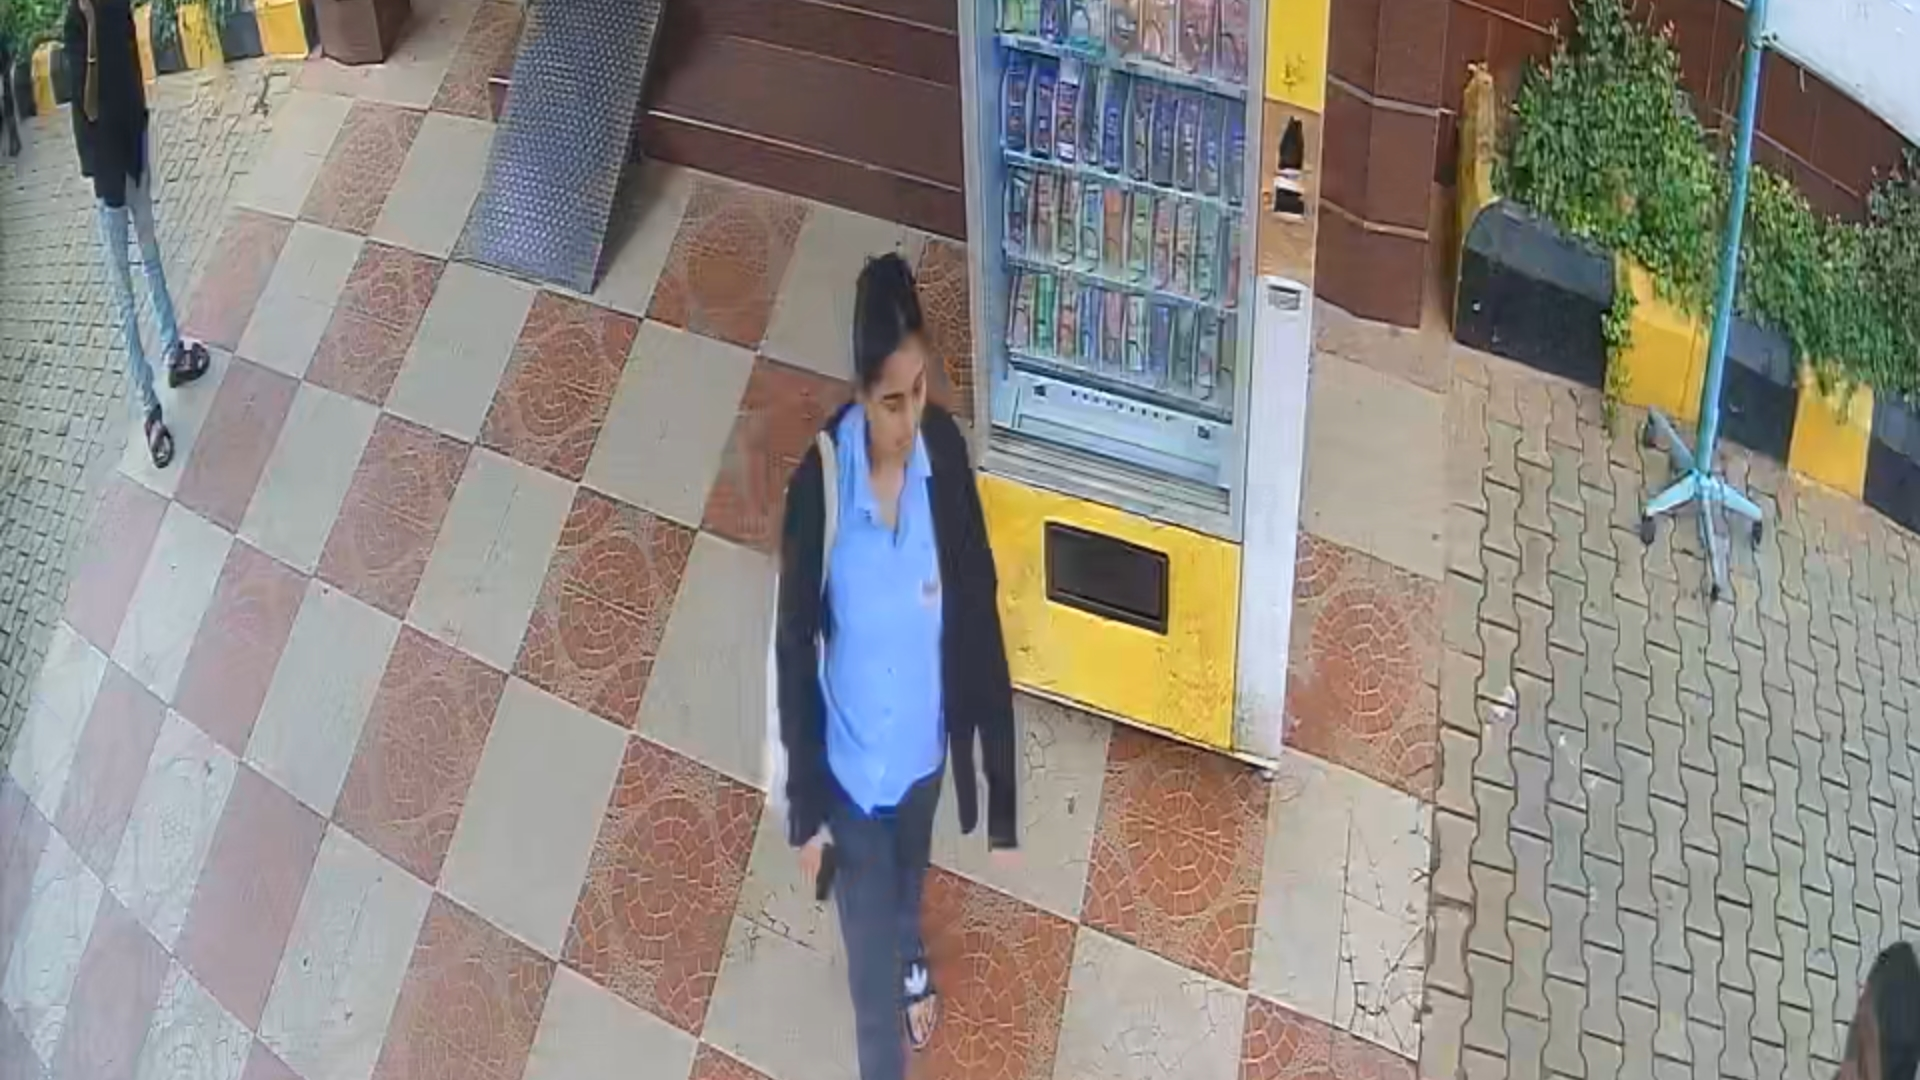intruder: (790, 235, 984, 1077)
